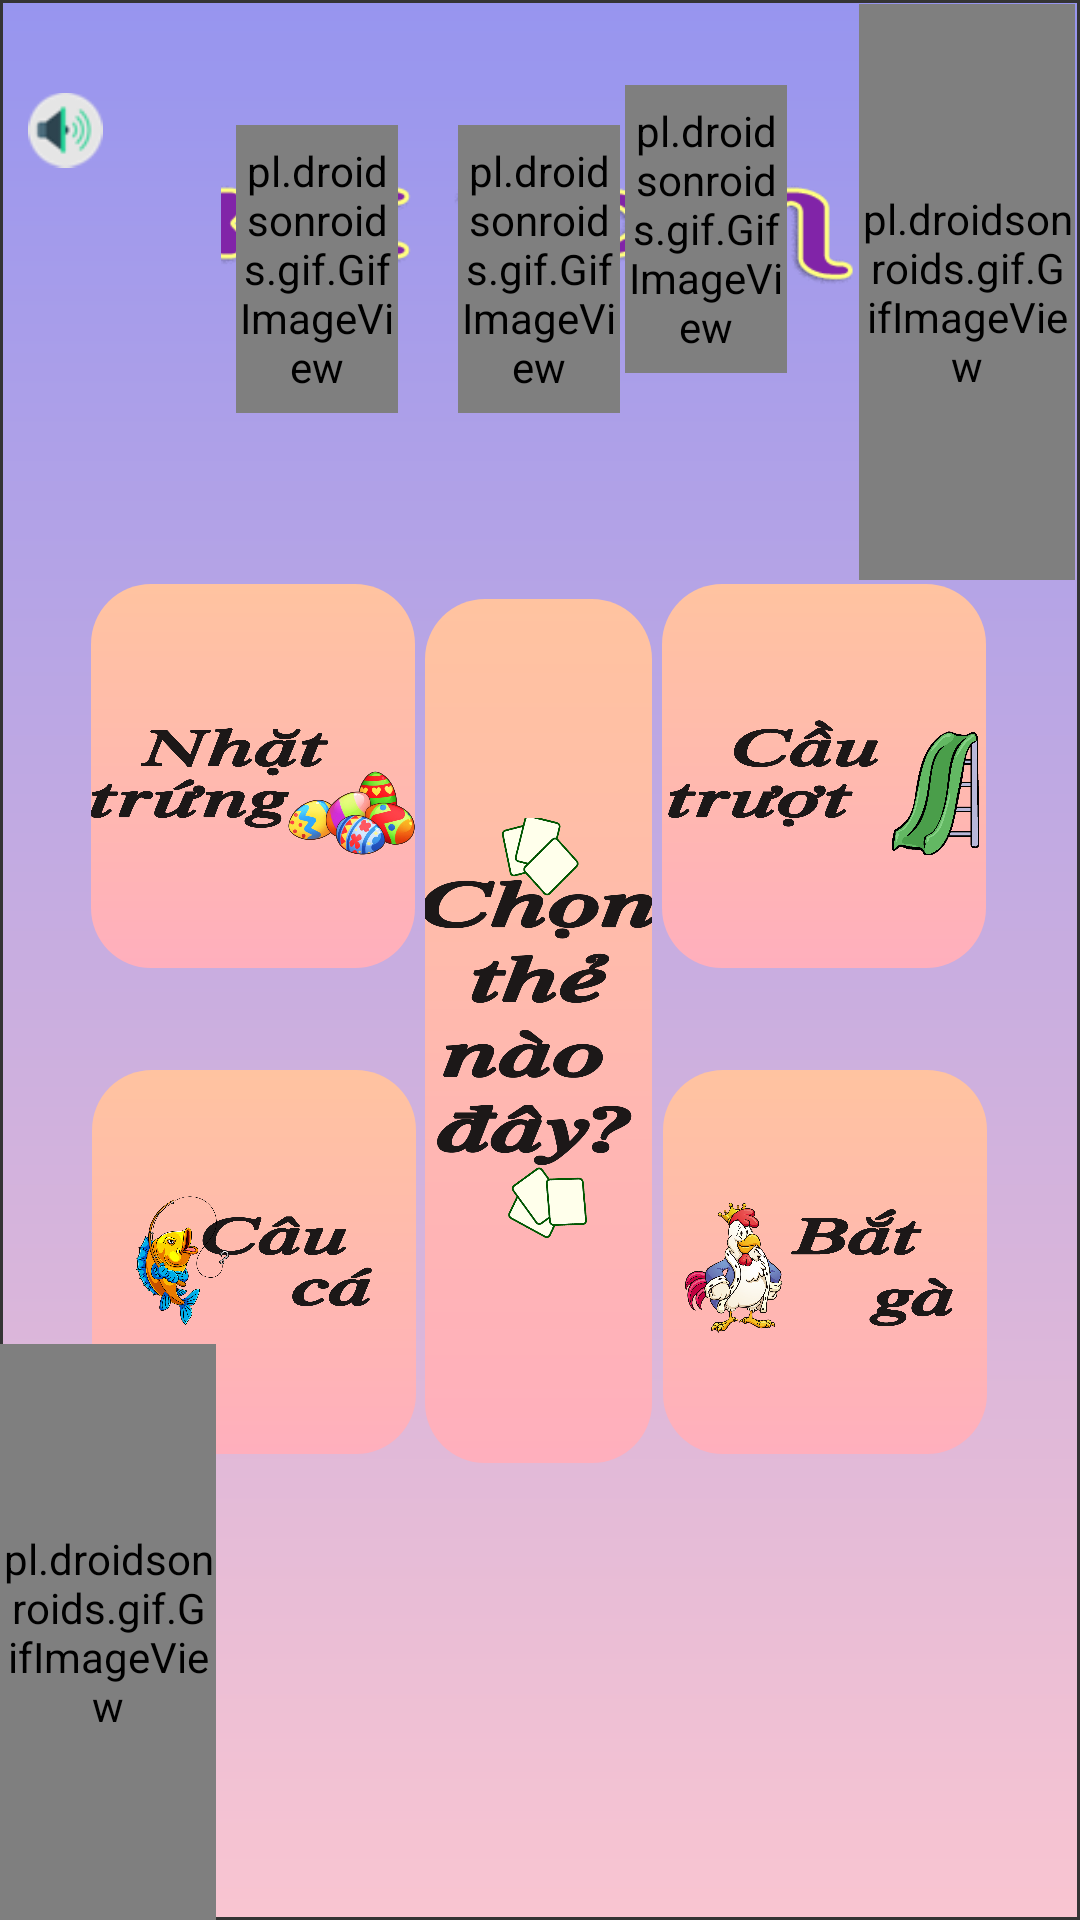

Screen size 1080 x 1920. Icon name, then its center in pixels as [x,y]:
sound on: [65,130]
